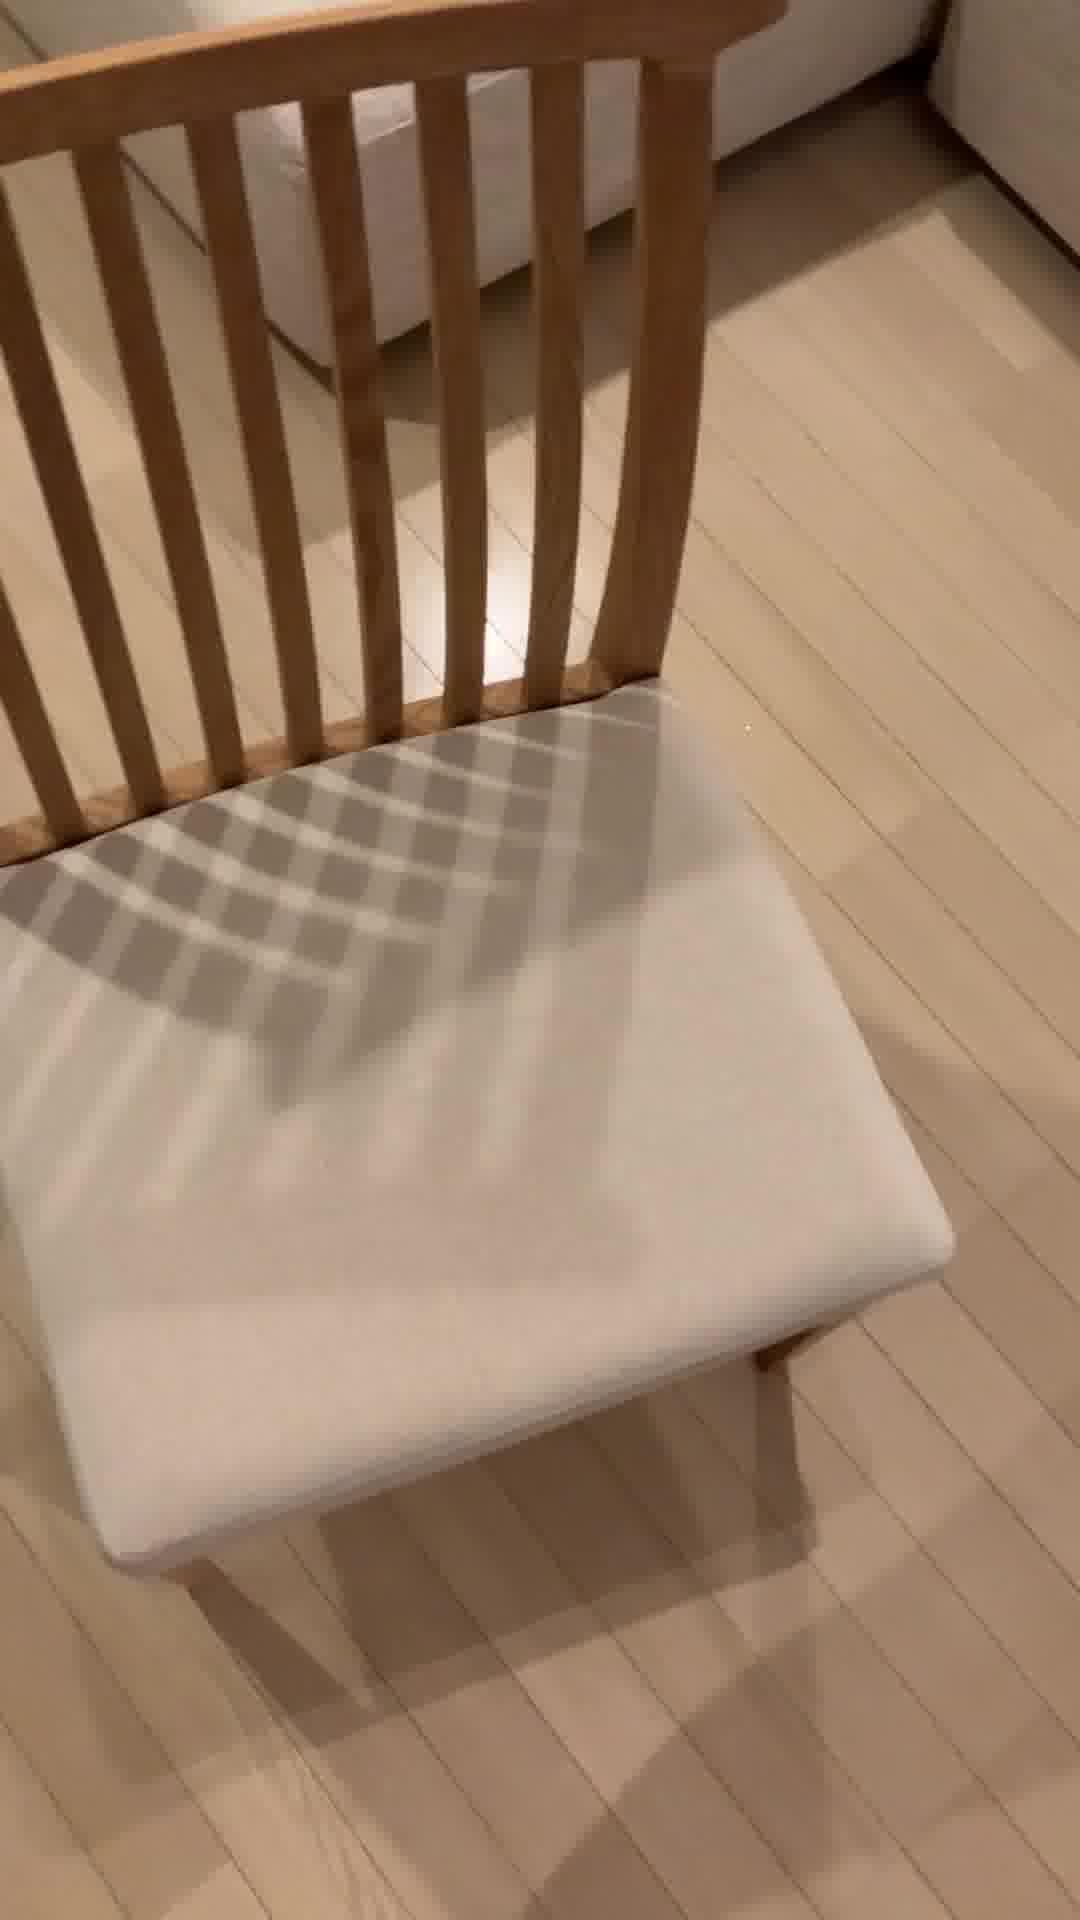takumikan-chair: (0, 0, 963, 1590)
